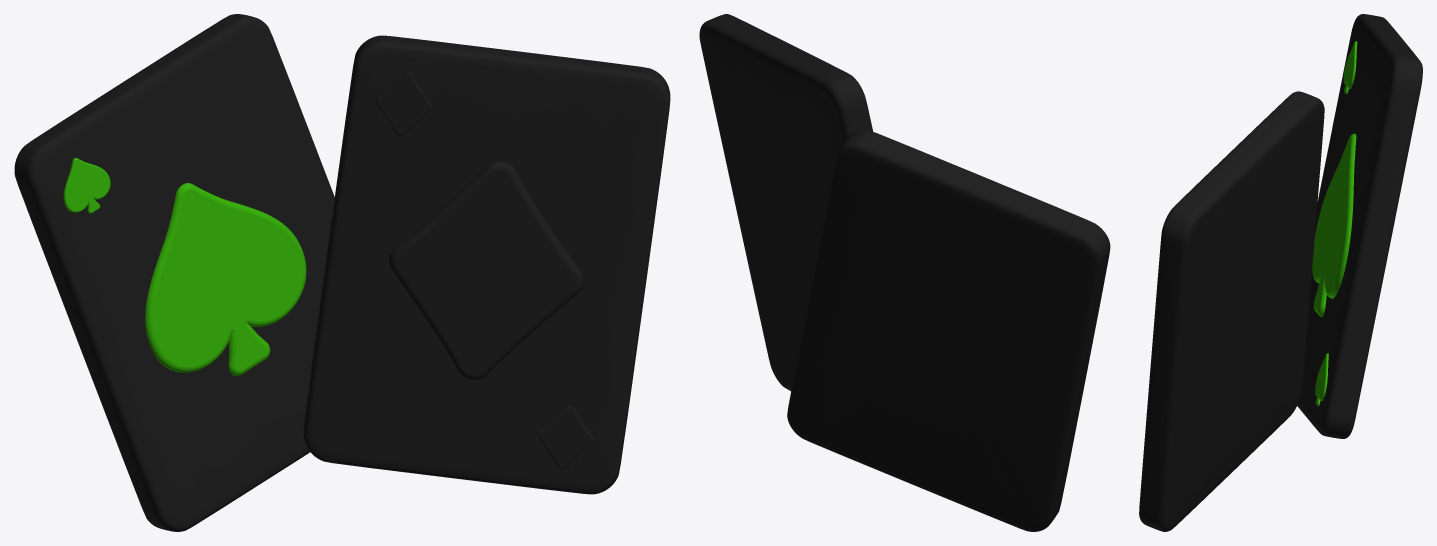
Rendered from Playing Cards.obj.
3 renders of one model, left to right at view 1: azimuth 30°, elevation 25°; view 2: azimuth 150°, elevation 25°; view 3: azimuth 270°, elevation 25°, orthographic. The views are drawn at different scales.
Visible parts, largest first — view 1: Cube, Cube.001, Curve.001, Curve, Curve.005, Curve.004, Curve.002; view 2: Cube.001, Cube; view 3: Cube, Cube.001, Curve, Curve.002, Curve.003.
Part boxes in pixels (x1,y1,x2,y2): Cube: (303, 35, 670, 494); Cube.001: (14, 14, 334, 531); Curve.001: (389, 161, 583, 379); Curve: (145, 183, 306, 375); Curve.005: (537, 405, 593, 469); Curve.004: (376, 72, 432, 135); Curve.002: (63, 158, 110, 213); Cube.001: (787, 130, 1110, 531); Cube: (699, 14, 872, 390); Cube: (1139, 91, 1324, 531); Cube.001: (1297, 14, 1422, 438); Curve: (1312, 133, 1356, 317); Curve.002: (1343, 41, 1357, 94); Curve.003: (1315, 353, 1328, 406).
Size of the model in its own units: 395 by 306 by 201.
